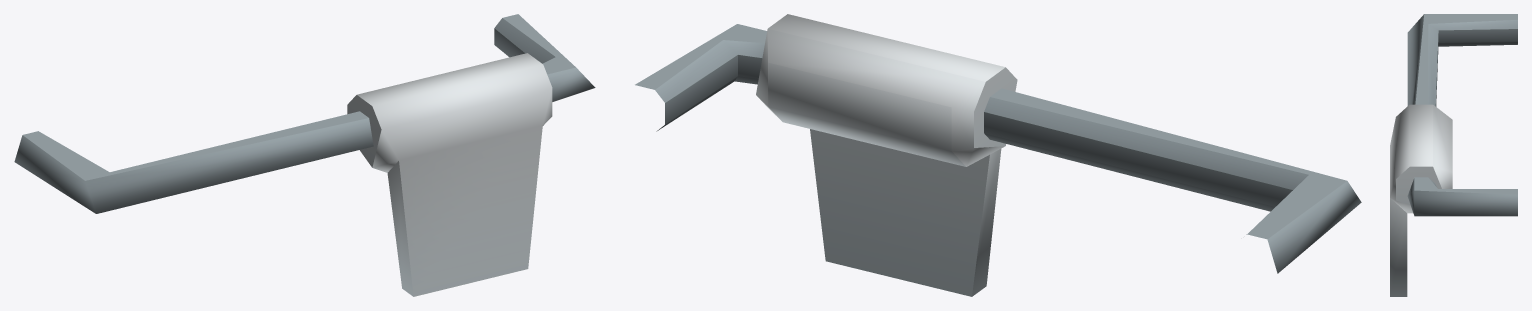
Rendered from cc0-towelrail-lod1.glb.
3 views of the same model, side by side, from view 1: azimuth 30°, elevation 25°; view 2: azimuth 150°, elevation 25°; view 3: azimuth 270°, elevation 25° (orthographic). The views are drawn at different scales.
Parts seen in each view (by area): view 1: part_0; view 2: part_0; view 3: part_0.
Boxes of the visible parts, x1,y1,x2,y2 form: part_0: (14,14,595,296); part_0: (635,14,1361,296); part_0: (1390,14,1517,296).
Bounding box in the file's own units: 1.6 × 0.5617 × 0.4634.
1 material, 1 textured.
